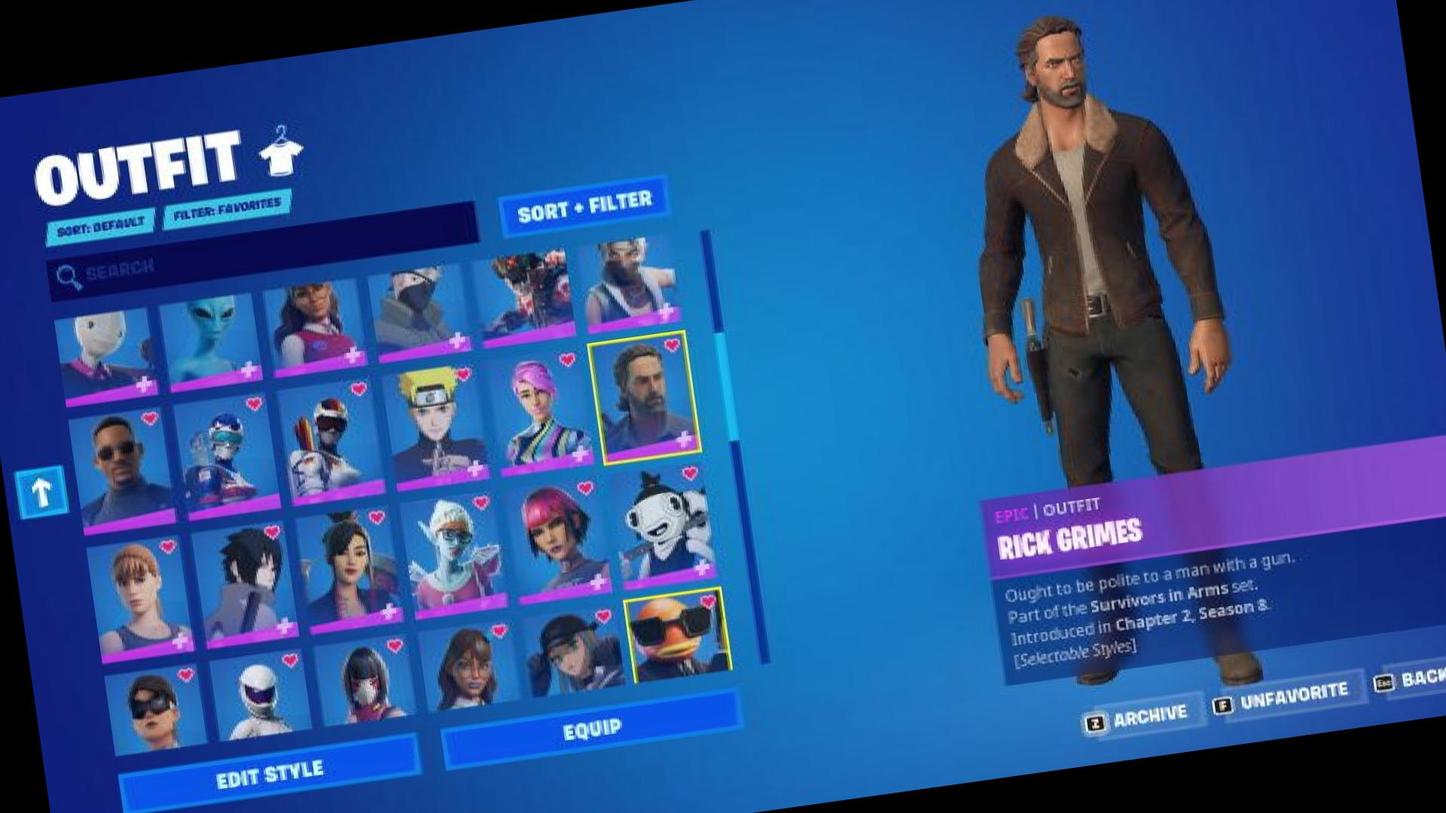player: (904, 0, 1360, 720)
